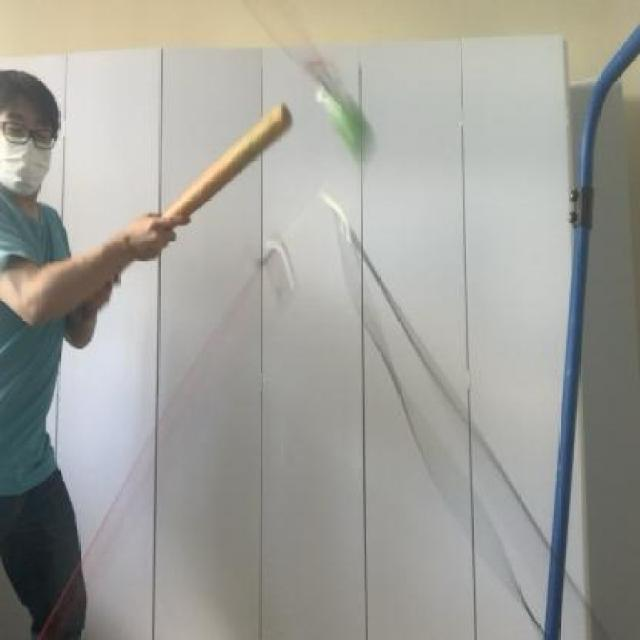baseball: (303, 79, 372, 159)
